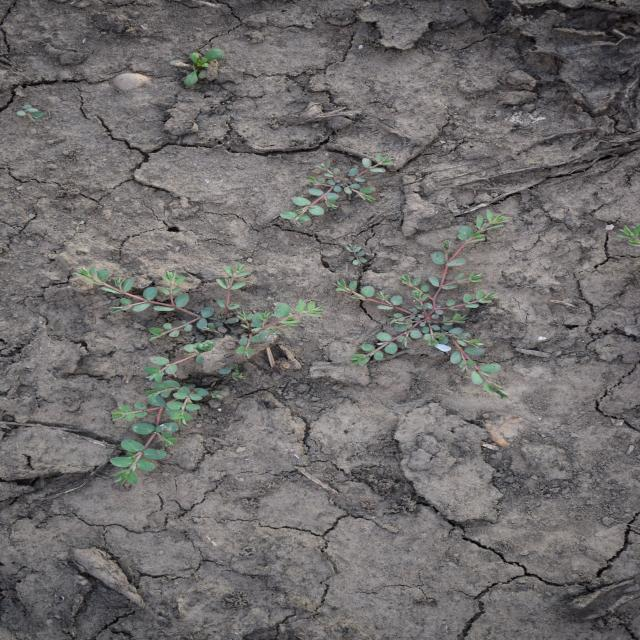Carpetweed: (165, 46, 230, 88)
SpottedSpurge: (70, 260, 328, 488), (331, 208, 514, 401), (278, 153, 398, 229)
